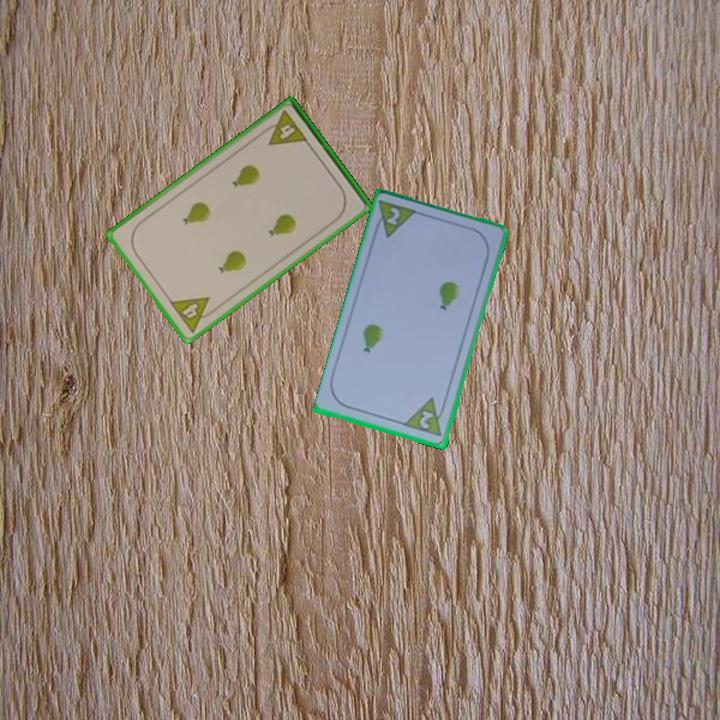2p: (370, 197, 421, 242), (402, 395, 449, 440)
4p: (166, 293, 220, 336), (258, 107, 311, 149)
